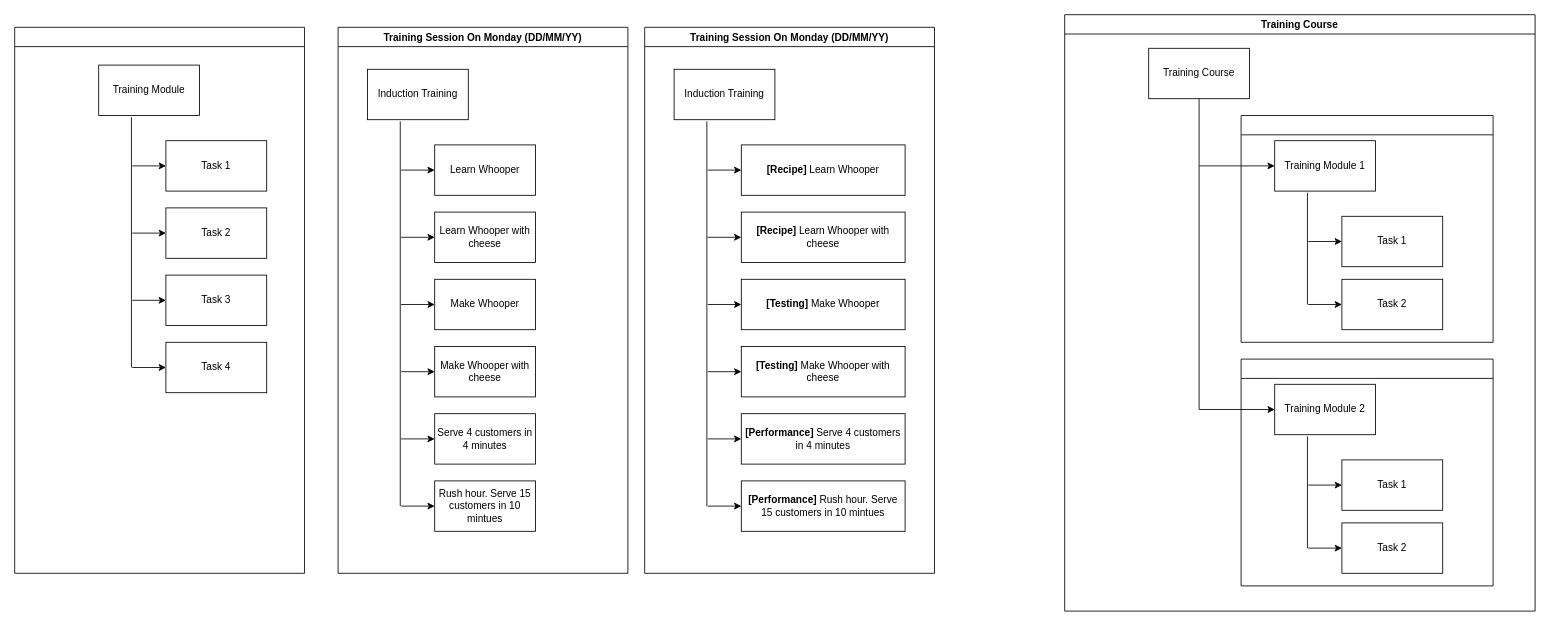
This 1550x626 diagram has some shape labels left out. Each missing label, with the box of its shape:
Training Session: (14, 26, 304, 573)
Training Session 1: (1240, 115, 1493, 342)
Training Session 2: (1240, 358, 1493, 586)
